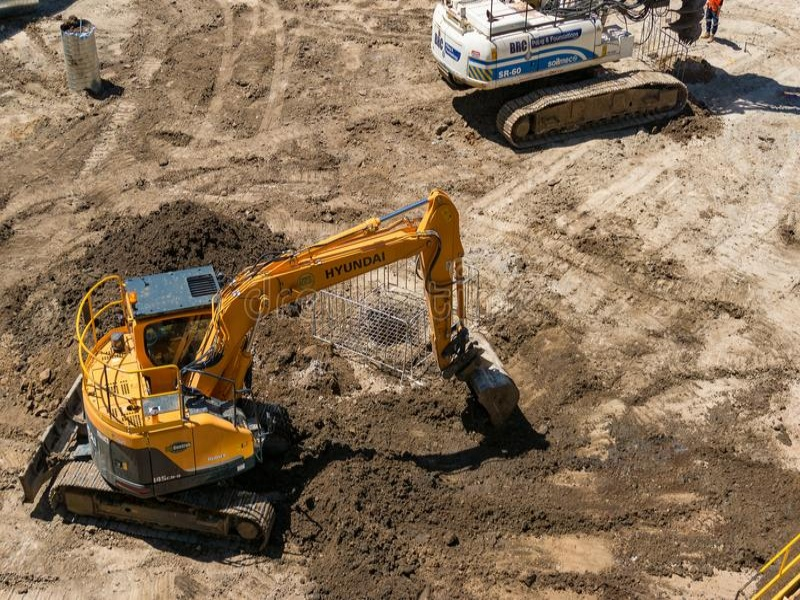excavator: (16, 186, 521, 554), (429, 1, 706, 152)
